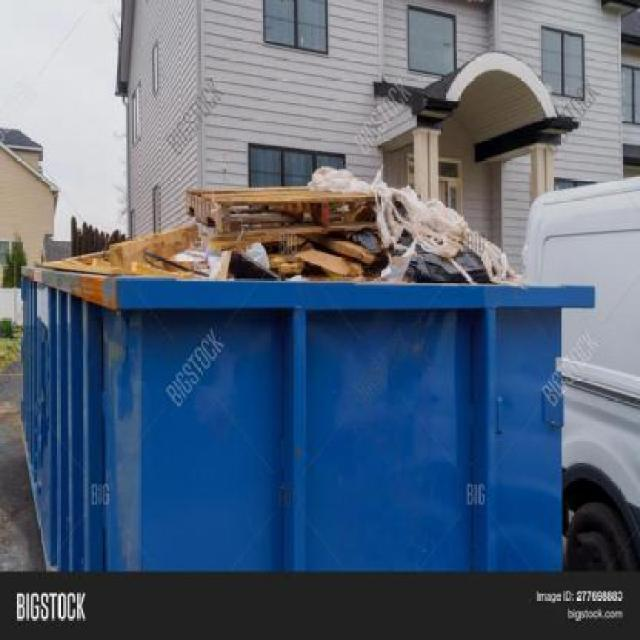garbage: (28, 160, 554, 312)
